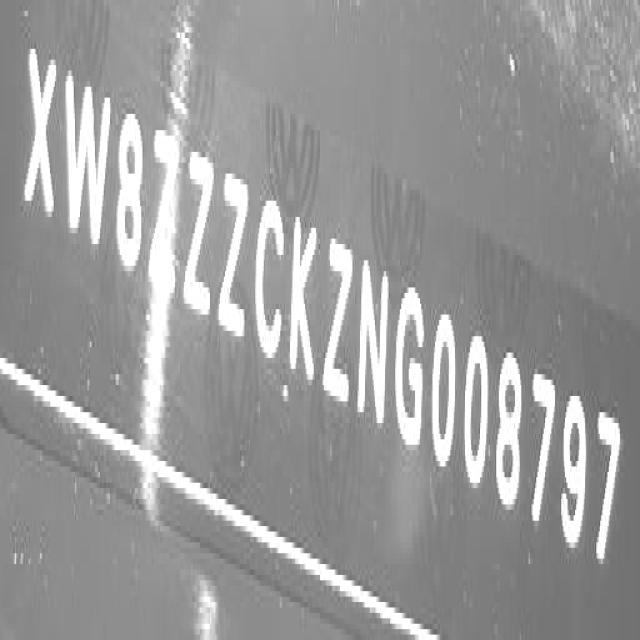0: (430, 297, 460, 480), (462, 321, 492, 498)
7: (594, 403, 626, 573), (530, 358, 556, 542)
8: (494, 336, 524, 518), (116, 105, 144, 280)
9: (560, 377, 586, 567)
C: (255, 185, 286, 374)
G: (394, 283, 426, 459)
K: (289, 211, 322, 398)
N: (356, 255, 390, 445)
W: (61, 51, 111, 255)
X: (25, 39, 56, 233)
Z: (217, 157, 249, 355), (149, 119, 179, 315), (324, 228, 353, 422), (186, 140, 215, 333)
